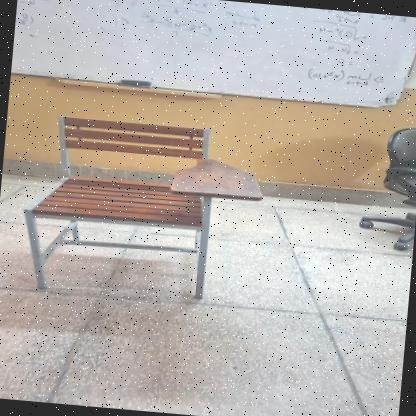chair: (12, 107, 272, 313)
